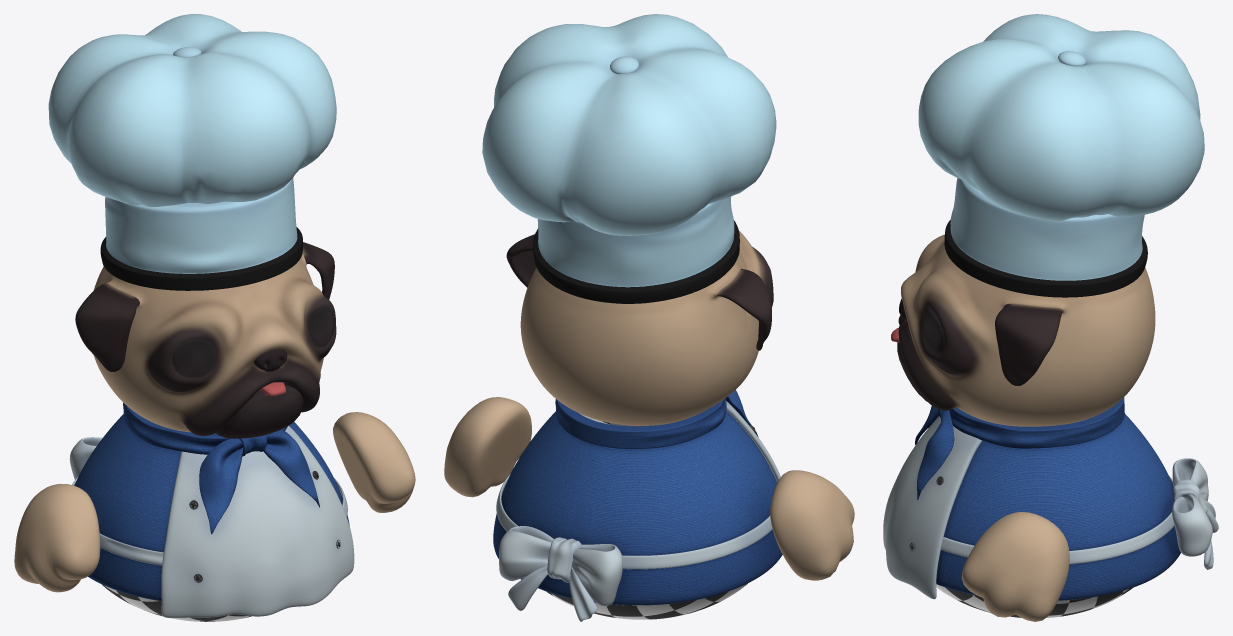
The model's file is overcooked_-_pug_character.gltf.
3 renders of one model, left to right at view 1: azimuth 30°, elevation 25°; view 2: azimuth 150°, elevation 25°; view 3: azimuth 270°, elevation 25°, orthographic. The views are drawn at different scales.
Visible parts, largest first — view 1: hat, head, clothes, body, rightHand, leftHand, eye, Object_6; view 2: hat, body, head, rightHand, leftHand, clothes, Object_6; view 3: hat, head, body, clothes, leftHand, Object_6, eye.
Boxes of the visible parts, <box> form: hat: <box>48,14,336,290</box>; head: <box>75,242,336,438</box>; clothes: <box>70,425,354,617</box>; body: <box>69,402,349,614</box>; rightHand: <box>14,484,100,592</box>; leftHand: <box>333,412,415,512</box>; eye: <box>172,308,334,377</box>; Object_6: <box>101,584,251,621</box>; hat: <box>482,14,776,303</box>; body: <box>493,399,782,621</box>; head: <box>506,231,773,425</box>; rightHand: <box>770,470,854,580</box>; leftHand: <box>444,397,531,497</box>; clothes: <box>496,390,780,587</box>; Object_6: <box>546,583,747,619</box>; hat: <box>918,14,1204,297</box>; head: <box>891,234,1155,426</box>; body: <box>936,397,1218,600</box>; clothes: <box>883,406,1198,599</box>; leftHand: <box>961,512,1069,621</box>; Object_6: <box>936,584,1133,617</box>; eye: <box>921,310,944,352</box>.
Bounding box in the file's own units: 2.54 × 3.52 × 1.92.
6 materials, 6 textured.
